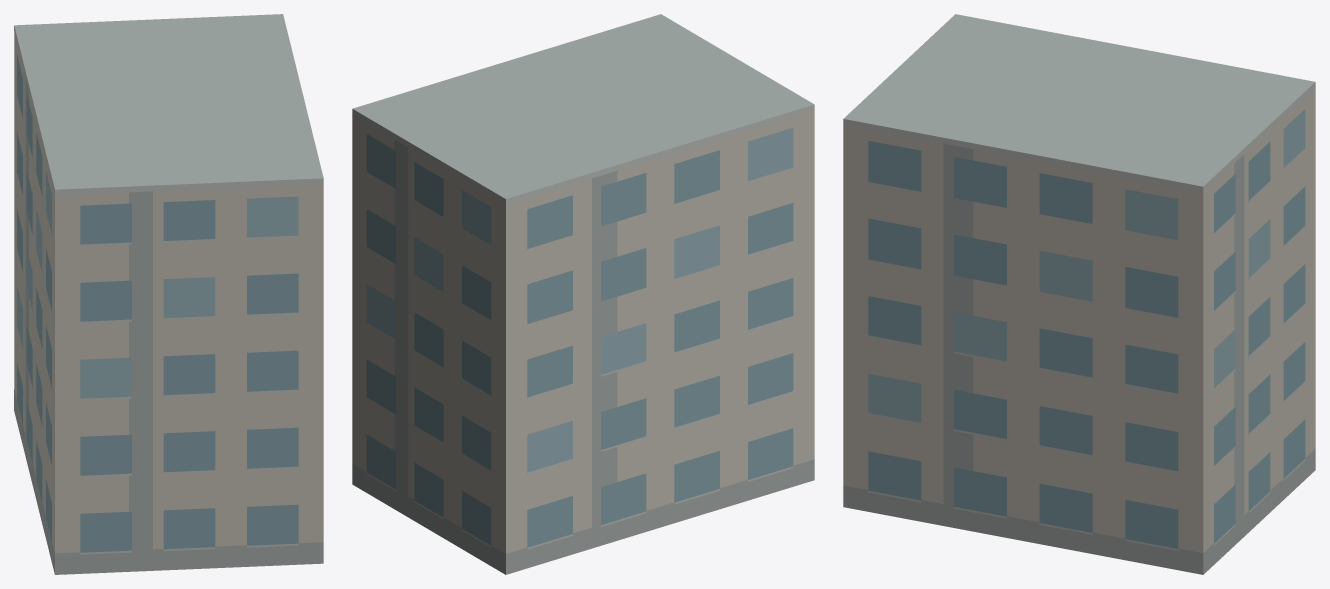
The model's file is survey-upis-32890780.glb.
3 views of the same model, side by side, from view 1: azimuth 30°, elevation 25°; view 2: azimuth 150°, elevation 25°; view 3: azimuth 270°, elevation 25° (orthographic). The views are drawn at different scales.
Visible parts, largest first — view 1: survey-upis-32890780.tmp; view 2: survey-upis-32890780.tmp; view 3: survey-upis-32890780.tmp.
Part boxes in pixels (bbox=[...]): survey-upis-32890780.tmp: bbox=[14, 14, 323, 574]; survey-upis-32890780.tmp: bbox=[352, 14, 814, 574]; survey-upis-32890780.tmp: bbox=[843, 14, 1315, 574].
Bounding box in the file's own units: 15.17 × 15.9 × 17.54.
